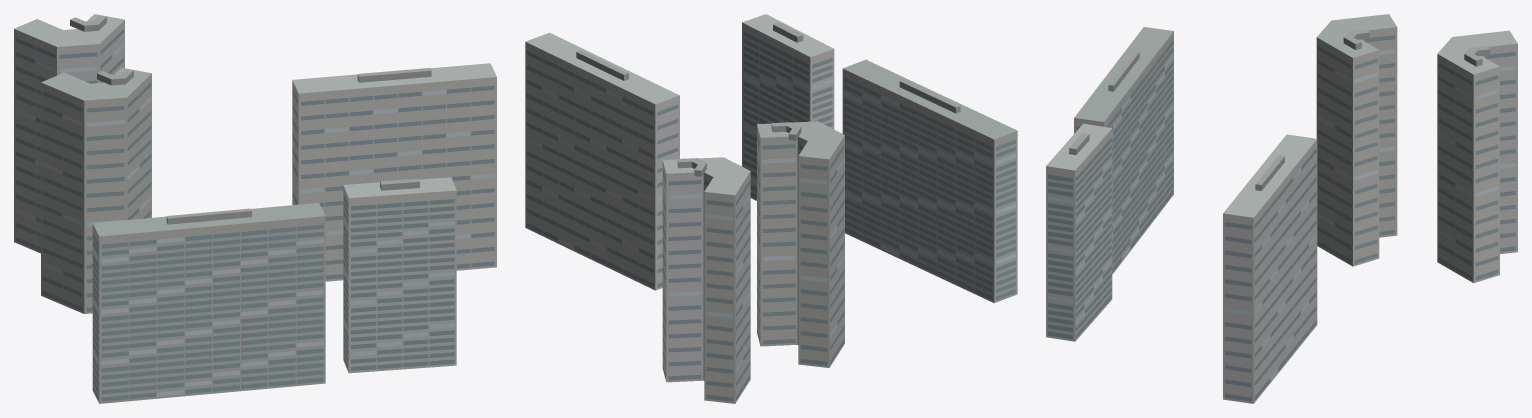
File: apt-a15681105.glb
3 views of the same model, side by side, from view 1: azimuth 30°, elevation 25°; view 2: azimuth 150°, elevation 25°; view 3: azimuth 270°, elevation 25° (orthographic). The views are drawn at different scales.
Parts seen in each view (by area): view 1: apt-a15681105; view 2: apt-a15681105; view 3: apt-a15681105.
Part boxes in pixels (bbox=[...]): apt-a15681105: bbox=[14, 14, 496, 403]; apt-a15681105: bbox=[525, 14, 1017, 403]; apt-a15681105: bbox=[1046, 14, 1517, 403].
Size of the model in its own units: 183 by 86 by 171.
